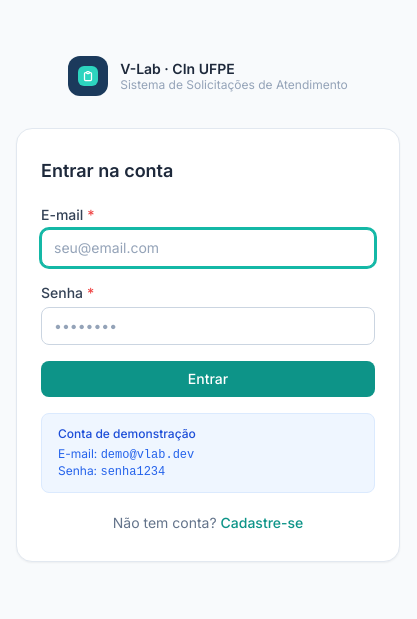
App — fluxo de autenticação › navega para cadastro ao clicar em Cadastre-se
Click the button "Cadastre-se": (262, 523) [220,513,303,533]
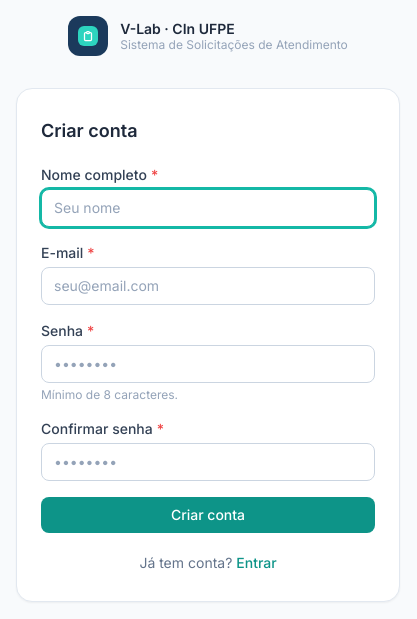
Expected: the heading "Criar conta" is shown, [41,120,138,141]
